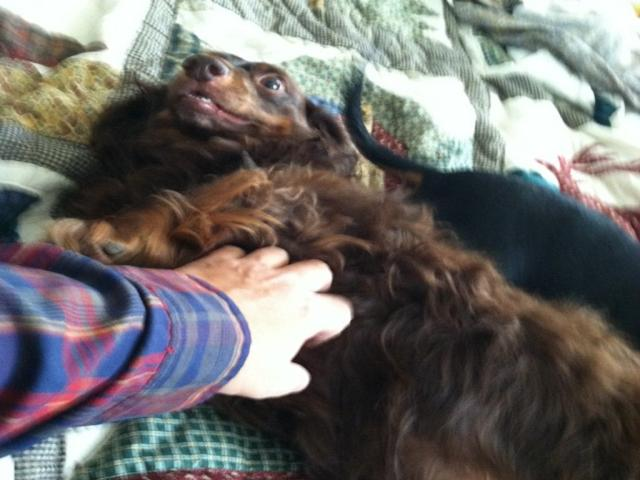Dog: (48, 52, 639, 479)
